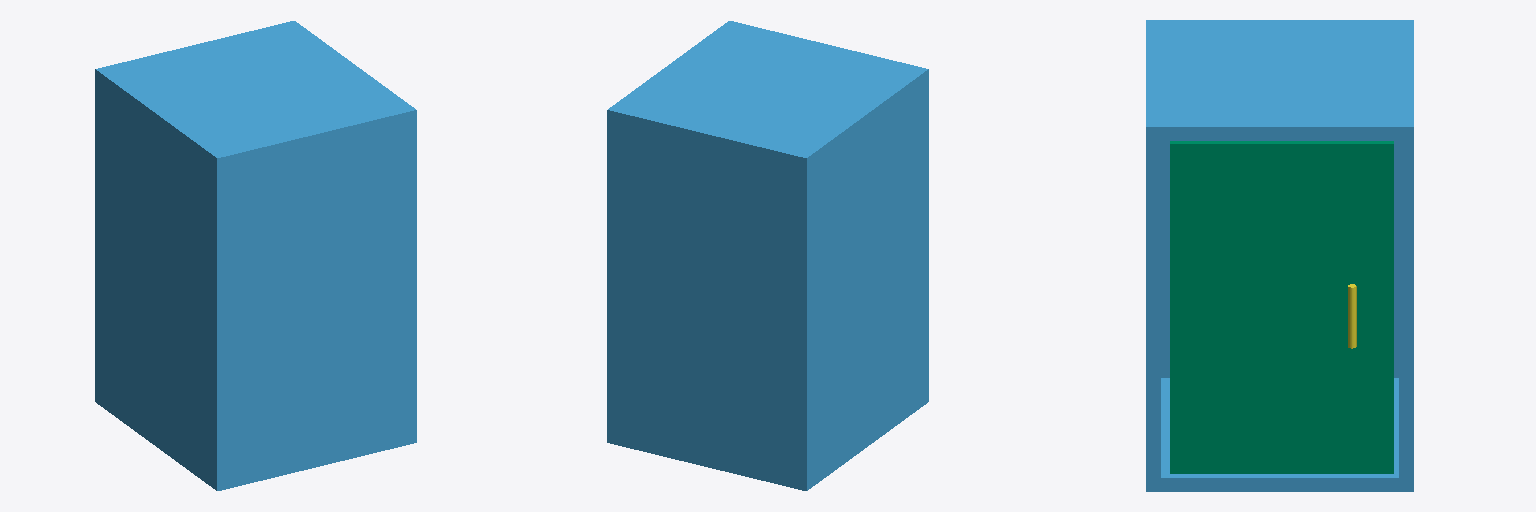
The robot description file, URDF, robot "my_cabinet":
<?xml version="1.0" ?>
<robot name="my_cabinet">
	<link name="world"/>
	<joint name="virtual_joint" type="fixed">
		<parent link="world"/>
		<child link="base_cabinet_link"/>
		<origin xyz="0.0 0.0 0.0" rpy="0.0 0.0 0.0"/>
	</joint>
	<link name="base_cabinet_link">
		<visual>
			<origin xyz="0.0 -0.0025 -0.23045119434858027" rpy="0.0 0.0 0.0"/>
			<geometry>
				<box size="0.3 0.31825163611514157 0.018"/>
			</geometry>
		</visual>
		<collision name="base_cabinet_link_collision_0">
			<origin xyz="0.0 -0.0025 -0.23045119434858027" rpy="0.0 0.0 0.0"/>
			<geometry>
				<box size="0.3 0.31825163611514157 0.018"/>
			</geometry>
		</collision>
		<visual>
			<origin xyz="0.0 0.1476258180575708 0.0" rpy="0.0 0.0 0.0"/>
			<geometry>
				<box size="0.3 0.018 0.47890238869716056"/>
			</geometry>
		</visual>
		<collision name="base_cabinet_link_collision_1">
			<origin xyz="0.0 0.1476258180575708 0.0" rpy="0.0 0.0 0.0"/>
			<geometry>
				<box size="0.3 0.018 0.47890238869716056"/>
			</geometry>
		</collision>
		<visual>
			<origin xyz="0.0 -0.1526258180575708 0.0" rpy="0.0 0.0 0.0"/>
			<geometry>
				<box size="0.3 0.018 0.47890238869716056"/>
			</geometry>
		</visual>
		<collision name="base_cabinet_link_collision_2">
			<origin xyz="0.0 -0.1526258180575708 0.0" rpy="0.0 0.0 0.0"/>
			<geometry>
				<box size="0.3 0.018 0.47890238869716056"/>
			</geometry>
		</collision>
		<visual>
			<origin xyz="0.0 -0.0025 0.23045119434858027" rpy="0.0 0.0 0.0"/>
			<geometry>
				<box size="0.3 0.31825163611514157 0.018"/>
			</geometry>
		</visual>
		<collision name="base_cabinet_link_collision_3">
			<origin xyz="0.0 -0.0025 0.23045119434858027" rpy="0.0 0.0 0.0"/>
			<geometry>
				<box size="0.3 0.31825163611514157 0.018"/>
			</geometry>
		</collision>
		<visual>
			<origin xyz="-0.141 -0.0025 0.0" rpy="0.0 0.0 0.0"/>
			<geometry>
				<box size="0.018 0.31825163611514157 0.47890238869716056"/>
			</geometry>
		</visual>
		<collision name="base_cabinet_link_collision_4">
			<origin xyz="-0.141 -0.0025 0.0" rpy="0.0 0.0 0.0"/>
			<geometry>
				<box size="0.018 0.31825163611514157 0.47890238869716056"/>
			</geometry>
		</collision>
		<inertial>
			<mass value="0.200000"/>
			<inertia ixx="0.005511" ixy="0.0" ixz="0.0" iyy="0.005322" iyz="0.0" izz="0.003188"/>
		</inertial>
	</link>
	<link name="door_link">
		<visual>
			<origin xyz="0.0 -0.1336258180575708 0.0"/>
			<geometry>
				<box size="0.018 0.2672516361151416 0.4329023886971605"/>
			</geometry>
		</visual>
		<collision name="door_link_collision">
			<origin xyz="0.0 -0.1336258180575708 0.0"/>
			<geometry>
				<box size="0.018 0.2672516361151416 0.4329023886971605"/>
			</geometry>
		</collision>
		<inertial>
			<mass value="0.200000"/>
			<inertia ixx="0.004314" ixy="0.0" ixz="0.0" iyy="0.003129" iyz="0.0" izz="0.001196"/>
		</inertial>
	</link>
	<joint name="door_joint" type="revolute">
		<origin xyz="0.141 -0.1336258180575708 0.0" rpy="0.000000 -0.000000 3.141593"/>
		<axis xyz="0 0 1"/>
		<parent link="base_cabinet_link"/>
		<child link="door_link"/>
		<limit effort="50" lower="-1.658062789394613" upper="0" velocity="10"/>
		<dynamics friction="3.5" damping="3.5"/>
	</joint>
	<link name="handle_link">
		<visual>
			<origin xyz="0.0 0.0 0.0" rpy="0.0 0.0 0.0"/>
			<geometry>
				<cylinder length="0.08" radius="0.005"/>
			</geometry>
		</visual>
		<collision name="handle_link_collision_0">
			<origin xyz="0.0 0.0 0.0" rpy="0.0 0.0 0.0"/>
			<geometry>
				<cylinder length="0.08" radius="0.005"/>
			</geometry>
		</collision>
		<visual>
			<origin xyz="-0.01 0.0 0.02" rpy="0.0 1.5707963267948966 0.0"/>
			<geometry>
				<cylinder length="0.02" radius="0.003"/>
			</geometry>
		</visual>
		<collision name="handle_link_collision_1">
			<origin xyz="-0.01 0.0 0.02" rpy="0.0 1.5707963267948966 0.0"/>
			<geometry>
				<cylinder length="0.01" radius="0.003"/>
			</geometry>
		</collision>
		<visual>
			<origin xyz="-0.01 0.0 -0.02" rpy="0.0 1.5707963267948966 0.0"/>
			<geometry>
				<cylinder length="0.02" radius="0.003"/>
			</geometry>
		</visual>
		<collision name="handle_link_collision_2">
			<origin xyz="-0.01 0.0 -0.02" rpy="0.0 1.5707963267948966 0.0"/>
			<geometry>
				<cylinder length="0.02" radius="0.003"/>
			</geometry>
		</collision>
		<inertial>
			<mass value="0.050000"/>
			<inertia ixx="0.000027" ixy="0.0" ixz="0.0" iyy="0.000029" iyz="0.0" izz="0.000003"/>
		</inertial>
	</link>
	<joint name="handle_joint" type="fixed">
		<origin xyz="-0.028999999999999998 -0.2172516361151416 0.0" rpy="0.000000 -0.000000 3.141593"/>
		<parent link="door_link"/>
		<child link="handle_link"/>
	</joint>
	<gazebo reference="base_cabinet_link">
		<sensor name="main_sensor" type="contact">
			<selfCollide>true</selfCollide>
			<alwaysOn>true</alwaysOn>
			<updateRate>5.0</updateRate>
			<material>Gazebo/Red</material>
			<contact>
				<collision>base_cabinet_link_collision_0_collision</collision>
				<collision>base_cabinet_link_collision_1_collision</collision>
				<collision>base_cabinet_link_collision_2_collision</collision>
				<collision>base_cabinet_link_collision_3_collision</collision>
				<collision>base_cabinet_link_collision_4_collision</collision>
			</contact>
			<plugin name="gazebo_ros_bumper_controller" filename="libgazebo_ros_bumper.so">
				<bumperTopicName>/contact</bumperTopicName>
				<frameName>world</frameName>
			</plugin>
		</sensor>
	</gazebo>
	<gazebo reference="door_link">
		<sensor name="main_sensor" type="contact">
			<selfCollide>true</selfCollide>
			<alwaysOn>true</alwaysOn>
			<updateRate>5.0</updateRate>
			<material>Gazebo/Red</material>
			<contact>
				<collision>door_link_collision_collision</collision>
			</contact>
			<plugin name="gazebo_ros_bumper_controller" filename="libgazebo_ros_bumper.so">
				<bumperTopicName>/contact_door</bumperTopicName>
				<frameName>contact_door</frameName>
			</plugin>
		</sensor>
	</gazebo>
	<gazebo reference="door_link">
		<mu>3.0</mu>
		<mu2>3.0</mu2>
		<kp>10000000</kp>
		<kd>100</kd>
	</gazebo>
</robot>

--- Facts derived from the render (not from the file) ---
3 views of the same robot in one strip: view 1: azimuth 30°, elevation 25°; view 2: azimuth 150°, elevation 25°; view 3: azimuth 270°, elevation 25° (orthographic).
Robot: my_cabinet — 4 links, 3 joints (1 revolute, 2 fixed); root link world; default pose: every joint at zero.
Visible links, largest first — view 1: base_cabinet_link; view 2: base_cabinet_link; view 3: door_link, base_cabinet_link, handle_link.
Link boxes in pixels (x1,y1,x2,y2): base_cabinet_link: (95,21,416,490); base_cabinet_link: (607,21,928,490); door_link: (1170,141,1393,473); base_cabinet_link: (1146,20,1413,491); handle_link: (1348,284,1356,348).
Size in the robot's own frame: 0.325 by 0.3183 by 0.4789 metres.
Geometry: primitives only (box / cylinder / sphere), no mesh files.
